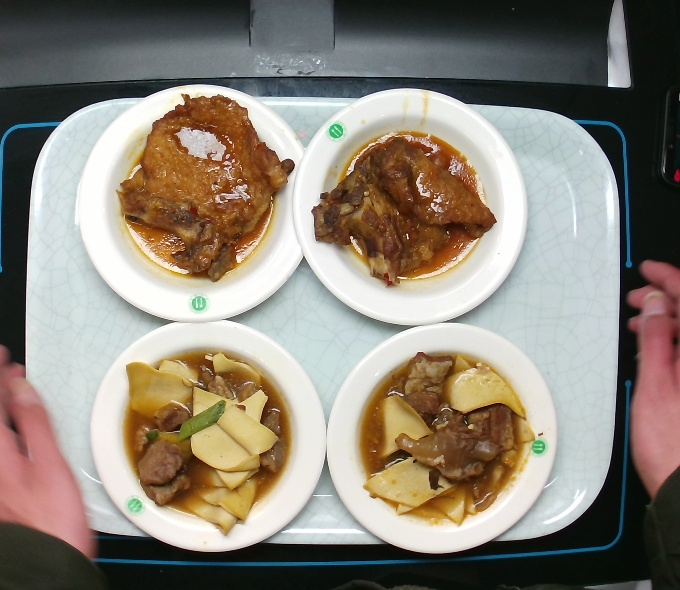wcq-DaPai: (106, 97, 297, 281), (306, 125, 500, 293)
wcq-QianZhangNiuRou: (111, 351, 298, 532), (355, 346, 542, 527)
